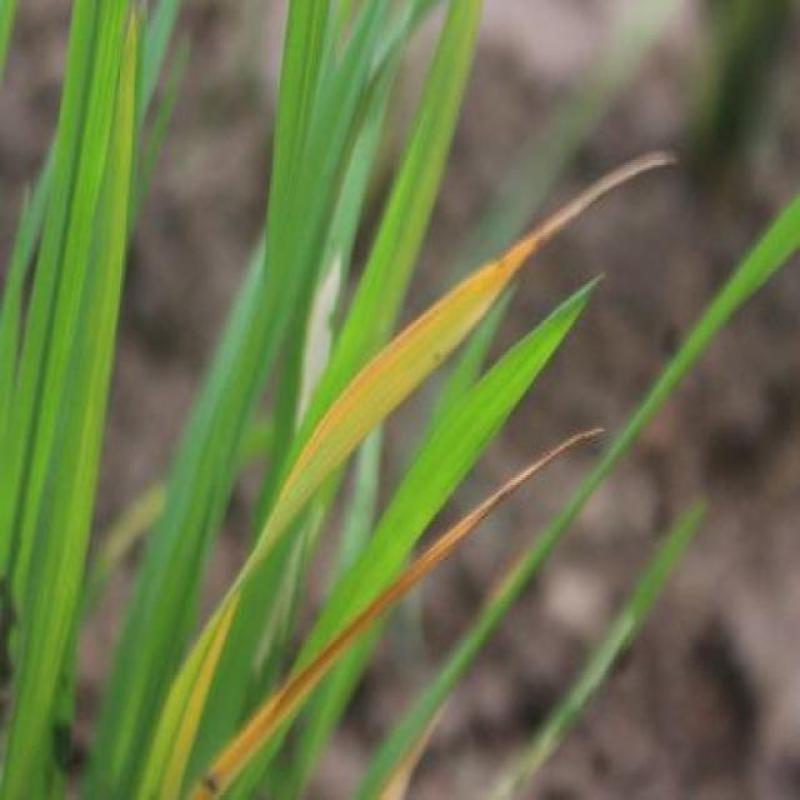Rice Tungro: (358, 274, 492, 408), (525, 144, 677, 242), (251, 636, 334, 744), (348, 548, 430, 646), (442, 475, 518, 545), (524, 406, 588, 485)
